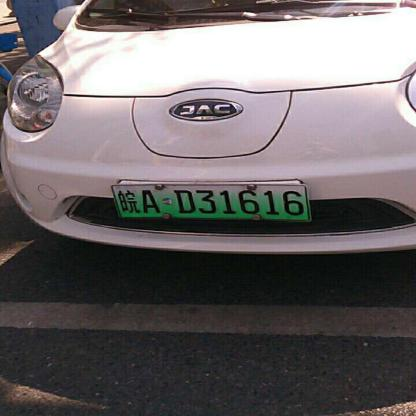lp: (111, 185, 310, 221)
